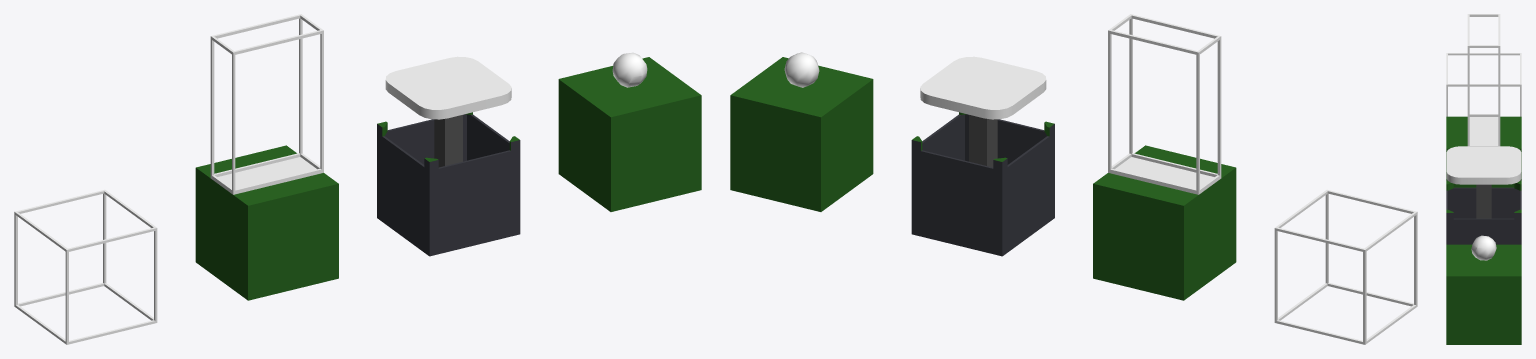
The model's file is Activables.dae.
3 renders of one model, left to right at view 1: azimuth 30°, elevation 25°; view 2: azimuth 150°, elevation 25°; view 3: azimuth 270°, elevation 25°, orthographic. The views are drawn at different scales.
Visible parts, largest first — view 1: Door, Orb, Lift, Lift-Platform, Hole, The-Orb; view 2: Door, Orb, Lift, Lift-Platform, Hole, The-Orb; view 3: Orb, Lift, Door, Lift-Platform, Hole, The-Orb.
Part boxes in pixels (x1,y1,x2,y2): Door: [195, 14, 338, 300]; Orb: [558, 57, 701, 211]; Lift: [377, 112, 520, 256]; Lift-Platform: [385, 56, 511, 167]; Hole: [14, 189, 157, 344]; The-Orb: [612, 52, 647, 87]; Door: [1093, 14, 1236, 300]; Orb: [730, 57, 873, 211]; Lift: [911, 112, 1054, 256]; Lift-Platform: [920, 56, 1046, 167]; Hole: [1274, 189, 1417, 344]; The-Orb: [784, 52, 819, 87]; Orb: [1446, 244, 1521, 344]; Lift: [1446, 181, 1521, 244]; Door: [1446, 14, 1521, 187]; Lift-Platform: [1446, 146, 1521, 218]; Hole: [1446, 53, 1521, 116]; The-Orb: [1471, 235, 1496, 260].
Size of what is drawn, in the model's own units: 700 by 269 by 100.
